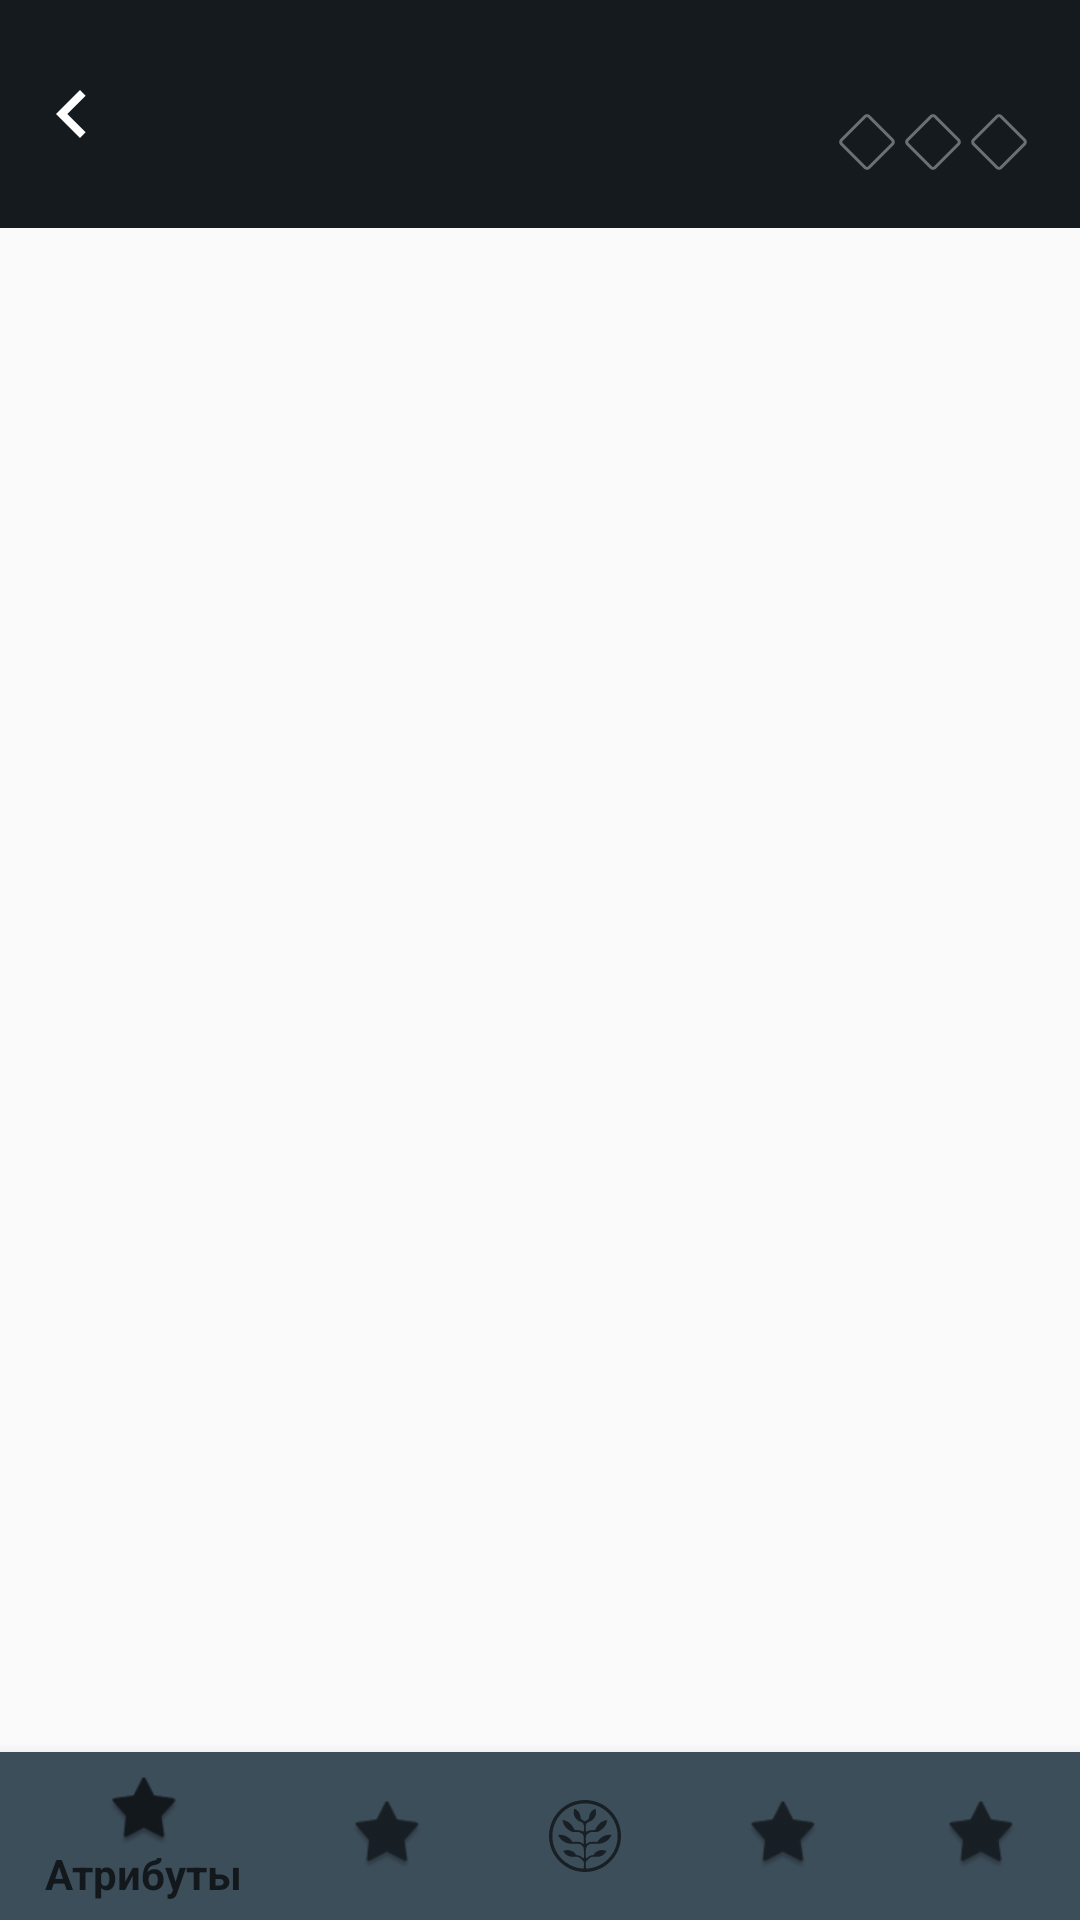

Icons on this 1080px x 1920px Android screen, each with the point to tap as (x=x, y=y):
system back: (x=71, y=114)
